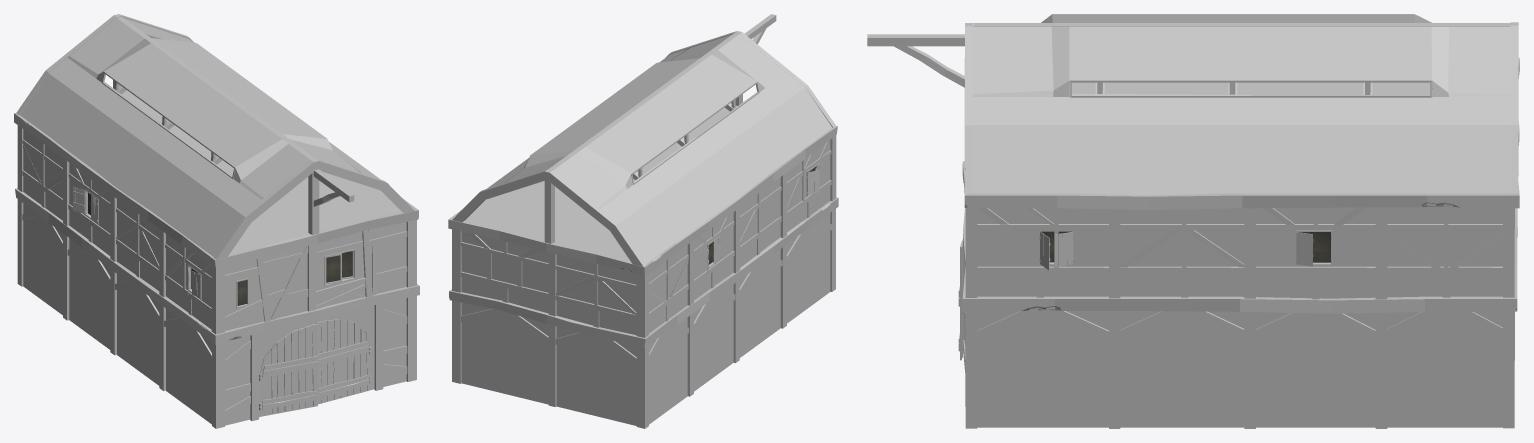
File: shed_2.fbx
3 renders of one model, left to right at view 1: azimuth 30°, elevation 25°; view 2: azimuth 150°, elevation 25°; view 3: azimuth 270°, elevation 25°, orthographic. The views are drawn at different scales.
Visible parts, largest first — view 1: shed_2; view 2: shed_2; view 3: shed_2.
Part boxes in pixels (x1=…): shed_2: x1=14, y1=14, x2=419, y2=428; shed_2: x1=448, y1=14, x2=838, y2=428; shed_2: x1=867, y1=14, x2=1519, y2=428.
Bounding box in the file's own units: 8.47 × 9.24 × 16.17.
